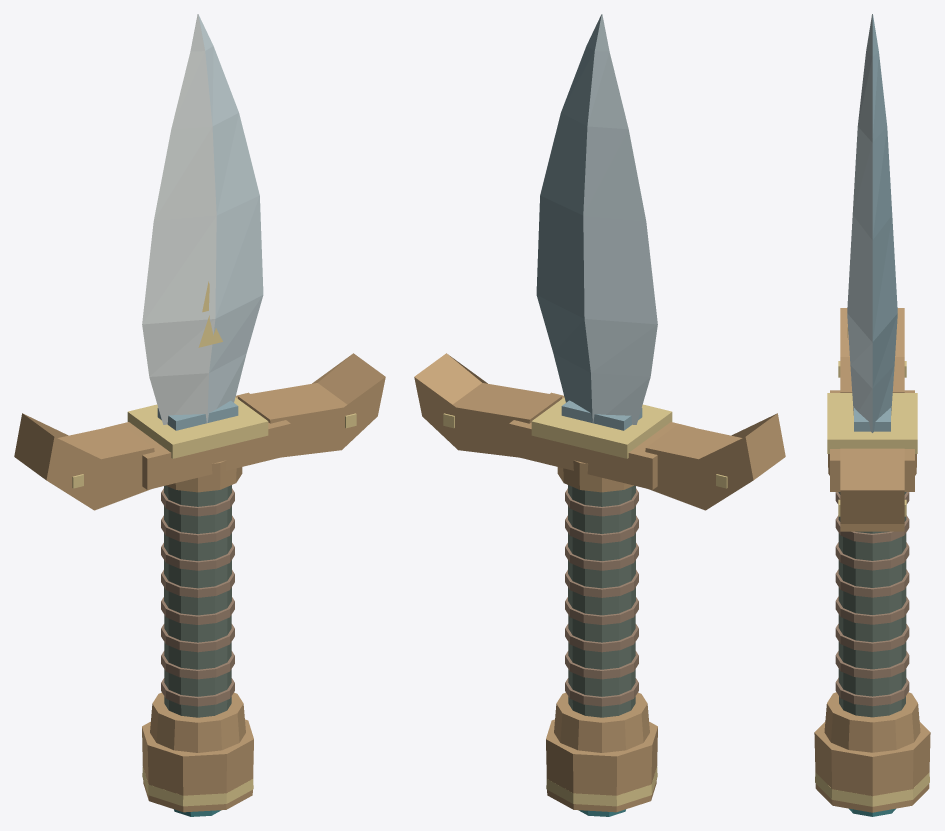
Rendered from steppe-dagger-v0.1.glb.
3 renders of one model, left to right at view 1: azimuth 30°, elevation 25°; view 2: azimuth 150°, elevation 25°; view 3: azimuth 270°, elevation 25°, orthographic.
Visible parts, largest first — view 1: Polished central diamond ridge, Leaf-shaped forged dagger blade, Leather-wrapped handle, Left hooked guard wing, Right hooked guard wing, Faceted octagonal weighted pommel, Bronze rectangular crossguard, Thin gold guard plate, Knurled bronze pommel socket, Bronze band on pommel, Bronze throat, Ricasso in dark steel (+8 smaller); view 2: Leaf-shaped forged dagger blade, Blued steel rear facet, Leather-wrapped handle, Left hooked guard wing, Right hooked guard wing, Faceted octagonal weighted pommel, Bronze rectangular crossguard, Thin gold guard plate, Knurled bronze pommel socket, Bronze band on pommel, Bronze throat, Ricasso in dark steel (+8 smaller); view 3: Leather-wrapped handle, Leaf-shaped forged dagger blade, Blued steel rear facet, Faceted octagonal weighted pommel, Right hooked guard wing, Knurled bronze pommel socket, Thin gold guard plate, Left hooked guard wing, Bronze band on pommel, Bronze rectangular crossguard, Helical-looking leather binding 1, Helical-looking leather binding 2 (+6 smaller).
Boxes of the visible parts, box(x1,y1,x2,y2) form: Polished central diamond ridge: box(142, 14, 216, 424); Leaf-shaped forged dagger blade: box(198, 14, 263, 422); Leather-wrapped handle: box(164, 485, 231, 717); Left hooked guard wing: box(14, 413, 154, 510); Right hooked guard wing: box(237, 353, 385, 457); Faceted octagonal weighted pommel: box(142, 719, 253, 812); Bronze rectangular crossguard: box(105, 392, 290, 489); Thin gold guard plate: box(127, 397, 268, 458); Knurled bronze pommel socket: box(150, 692, 245, 752); Bronze band on pommel: box(142, 766, 253, 806); Bronze throat: box(166, 460, 242, 492); Ricasso in dark steel: box(157, 400, 238, 430); Leaf-shaped forged dagger blade: box(583, 14, 657, 424); Blued steel rear facet: box(536, 14, 601, 422); Leather-wrapped handle: box(568, 485, 635, 717); Left hooked guard wing: box(645, 413, 785, 510); Right hooked guard wing: box(414, 353, 562, 457); Faceted octagonal weighted pommel: box(546, 719, 657, 812); Bronze rectangular crossguard: box(509, 392, 694, 489); Thin gold guard plate: box(531, 397, 672, 458); Knurled bronze pommel socket: box(554, 692, 649, 752); Bronze band on pommel: box(546, 766, 657, 806); Bronze throat: box(557, 460, 633, 492); Ricasso in dark steel: box(561, 400, 642, 430); Leather-wrapped handle: box(838, 492, 906, 717); Leaf-shaped forged dagger blade: box(847, 14, 872, 432); Blued steel rear facet: box(872, 14, 897, 432); Faceted octagonal weighted pommel: box(814, 721, 930, 812); Right hooked guard wing: box(840, 448, 904, 531); Knurled bronze pommel socket: box(824, 692, 920, 752); Thin gold guard plate: box(827, 393, 917, 453); Left hooked guard wing: box(840, 308, 904, 392); Bronze band on pommel: box(815, 772, 929, 806); Bronze rectangular crossguard: box(830, 390, 914, 491); Helical-looking leather binding 1: box(835, 678, 909, 706); Helical-looking leather binding 2: box(835, 651, 909, 678).
Size of the model in its own units: 0.85 by 1.9 by 0.252.
